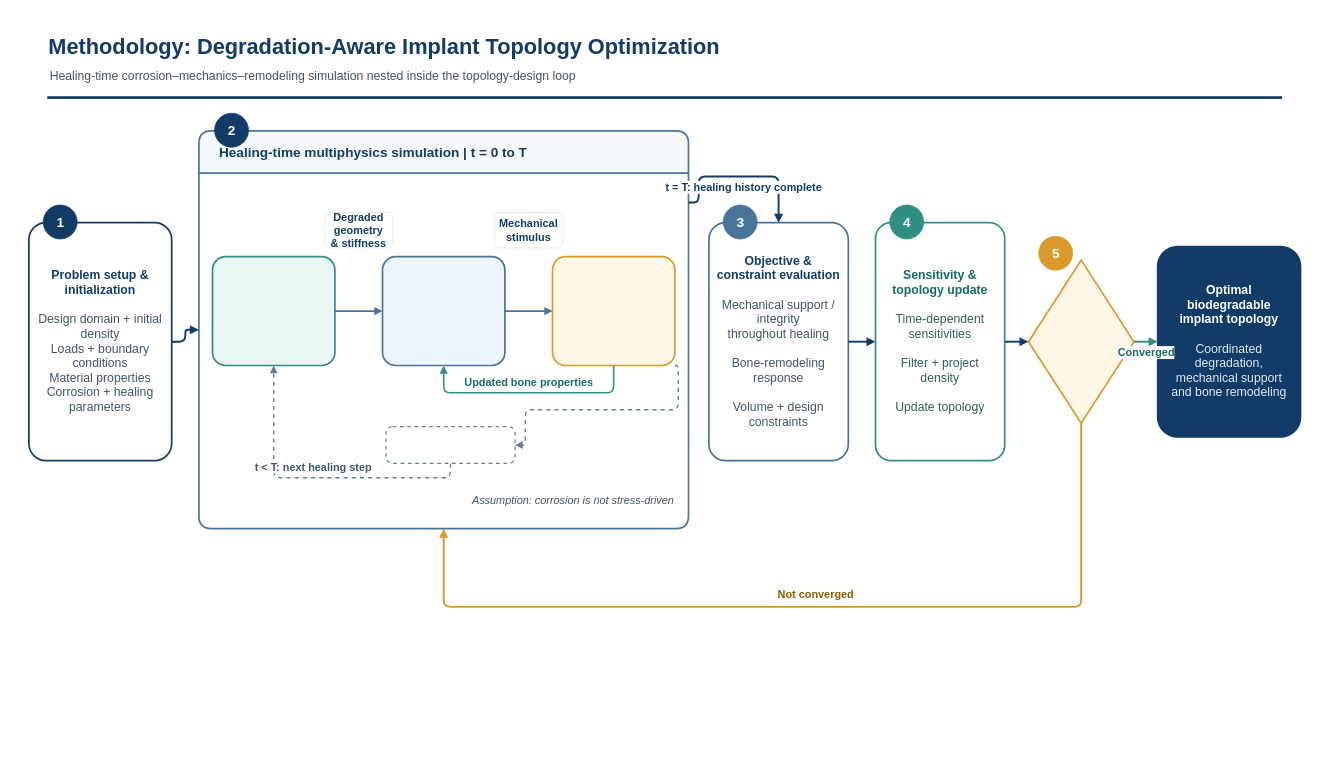
The diagram is 1328 pixels wide and 757 high, and some of its shapes have lost their labels. The shapes that lost their labels are listed below. From the top down, each one's centre as x and y in pixels, then its label:
(x=273, y=311): Reaction–diffusion corrosion Evolve implant material field
(x=443, y=311): Matrix-free mechanics FE equilibrium on current geometry
(x=613, y=311): Bone remodeling Update bone density and material properties
(x=1080, y=341): Convergence? Design change + objective / constraints
(x=450, y=445): Advance healing time t ← t + Δt
